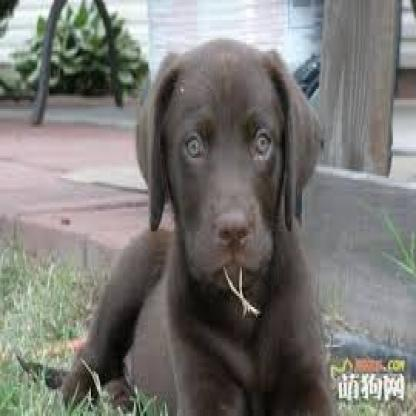dog: (17, 38, 325, 416)
